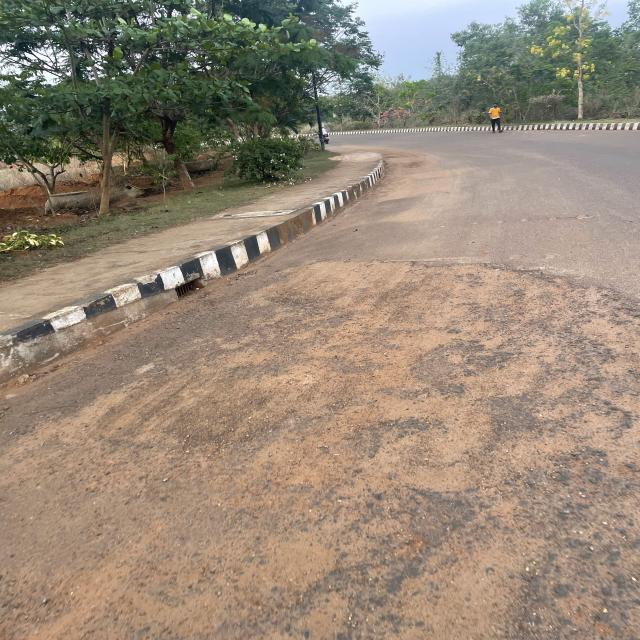D40: (310, 308, 621, 632)
